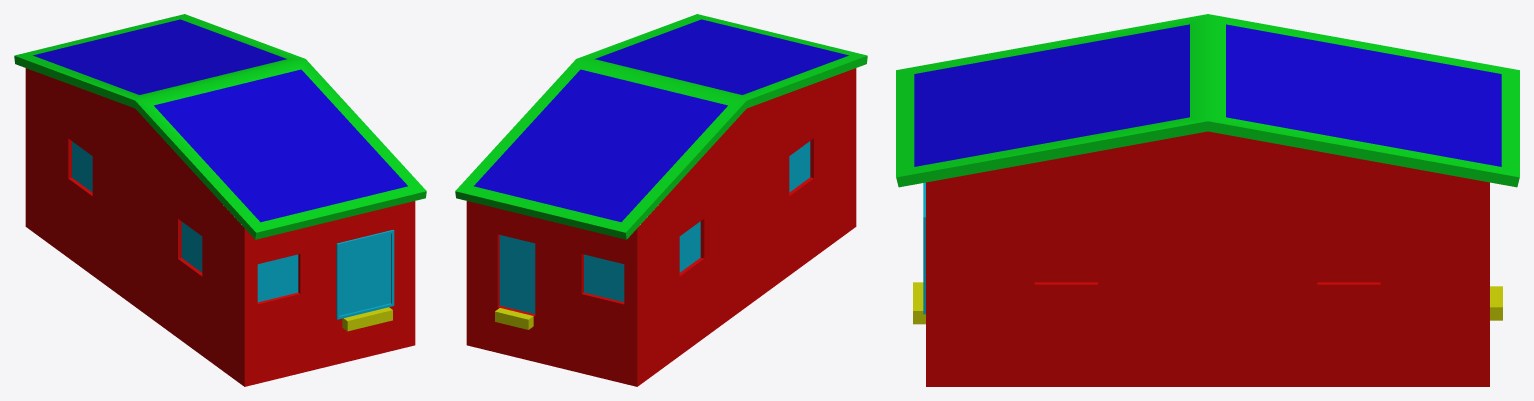
File: old_build_01.FBX
3 views of the same model, side by side, from view 1: azimuth 30°, elevation 25°; view 2: azimuth 150°, elevation 25°; view 3: azimuth 270°, elevation 25° (orthographic). The views are drawn at different scales.
Visible parts, largest first — view 1: old_build_01; view 2: old_build_01; view 3: old_build_01.
Part boxes in pixels (x1=…): old_build_01: x1=14, y1=14, x2=426, y2=386; old_build_01: x1=455, y1=14, x2=867, y2=386; old_build_01: x1=896, y1=14, x2=1519, y2=386.
Size of the model in its own units: 4.5 by 11.06 by 5.2.
